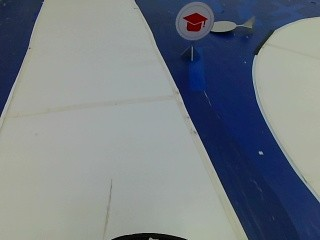school: (173, 0, 214, 42)
